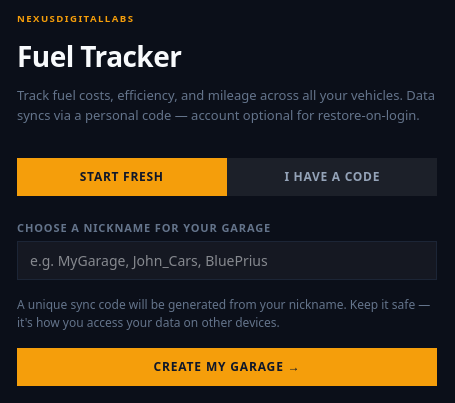
FuelTrackerClient — "I Have a Code" flow › shows "Enter your sync code" error when Load My Data is clicked with no input
The width and height of the screenshot is (455, 403).
Click the button "I Have a Code". click: click(332, 177)
box: x1=228 y1=158 x2=437 y2=196
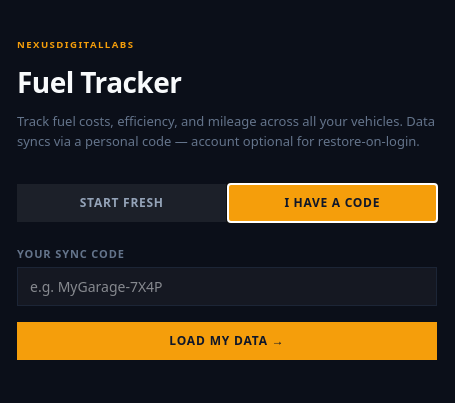
Click the button "Load My Data →". click: click(227, 341)
box: x1=17 y1=322 x2=437 y2=360
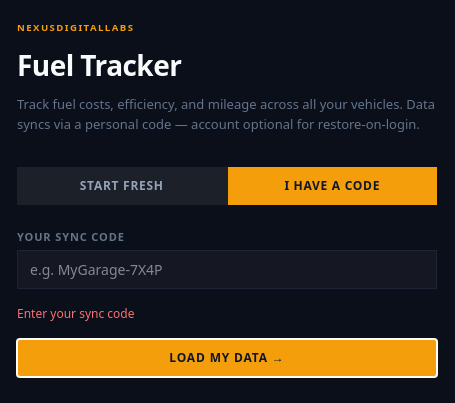
Check: the text "Enter your sync code" is shown, box x1=17 y1=305 x2=134 y2=322
